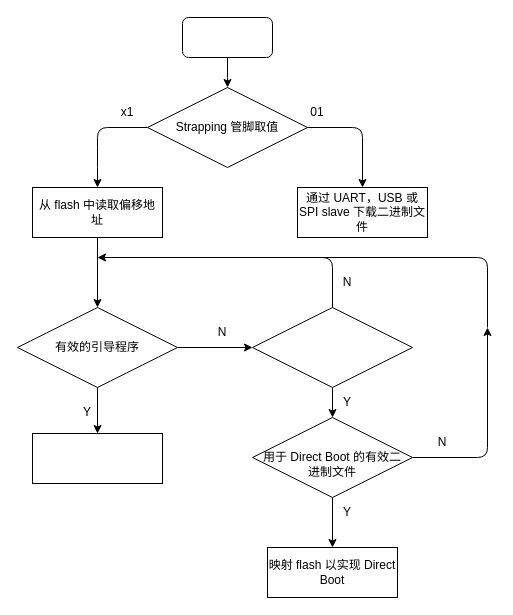
The diagram is 513 pixels wide and 615 high, and some of its shapes have lost their labels. The shapes that lost their labels are listed below. From the top down, each one's centre as x and y in pixels, then its label:
(227,37): 重启
(332,347): 禁用 Secure Boot 并使能 Direct Boot
(97,458): 使能 Secure Boot
